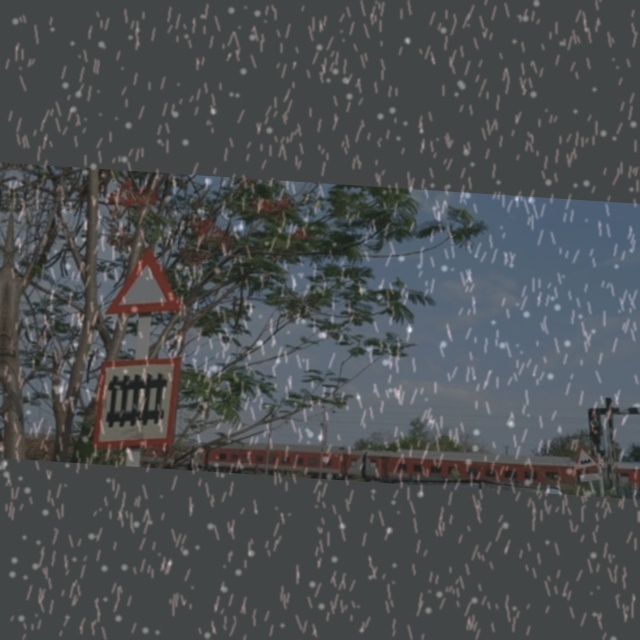Guarded_Level_Crossing: (91, 344, 187, 449)
